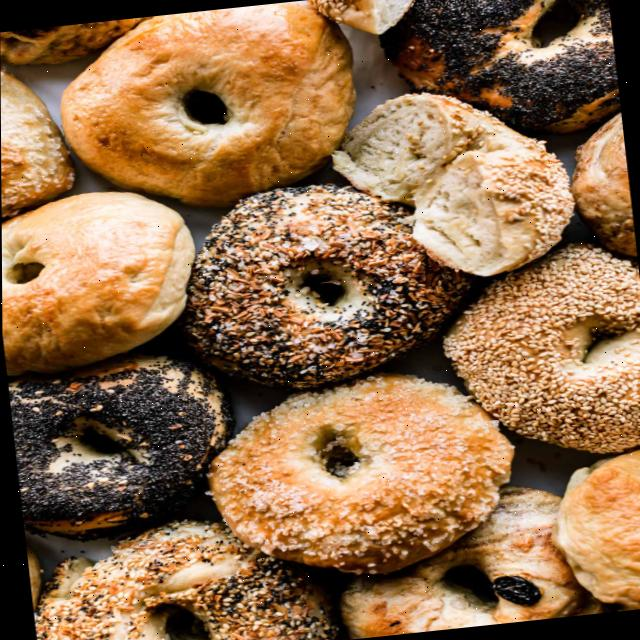Bagel: (61, 1, 355, 207), (443, 243, 640, 453), (1, 191, 195, 374)
